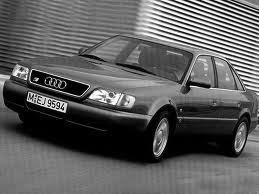car: (3, 31, 258, 164)
